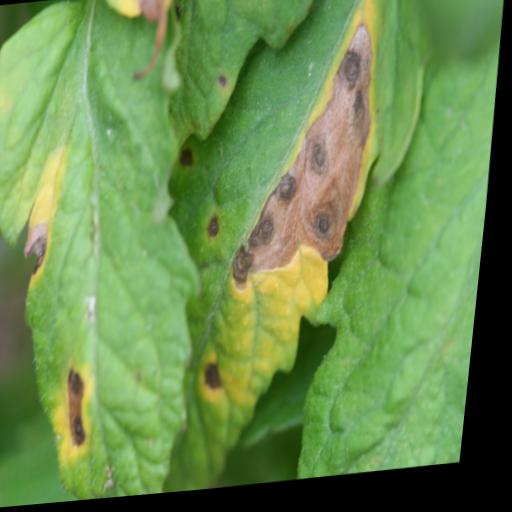Late Blight: (126, 0, 452, 480), (0, 0, 244, 507)
